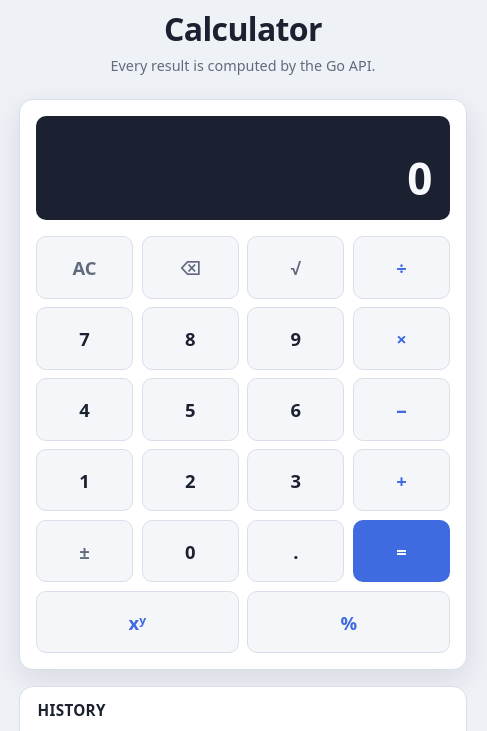
Test: error handling › lets the error be dismissed
The image size is (487, 731).
Step 1. Click the button "1" → (84, 480), box x1=36 y1=449 x2=133 y2=512
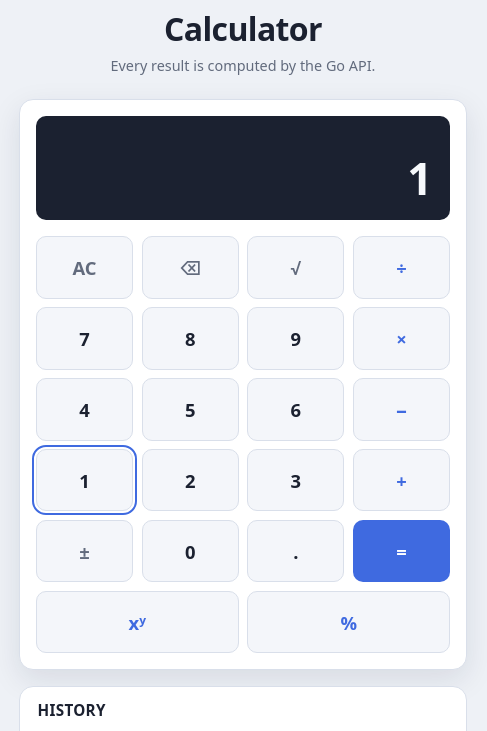
Step 2. Click the button named "Divide" → (402, 267), box x1=353 y1=236 x2=450 y2=298
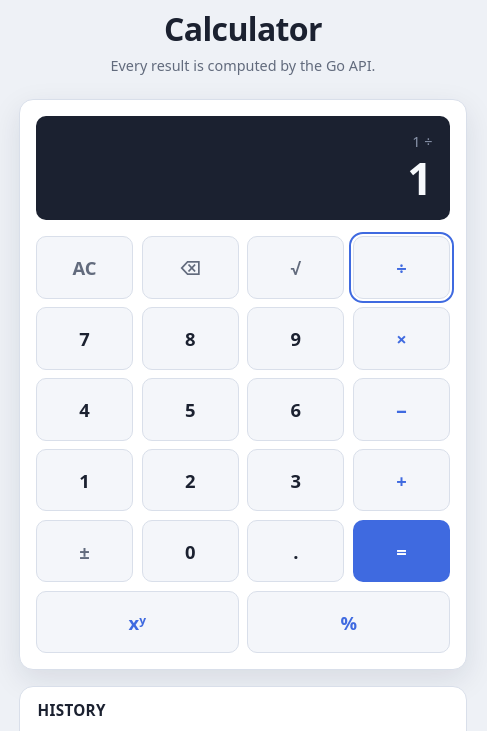
Step 3. Click the button "0" → (190, 551), box x1=142 y1=520 x2=239 y2=582
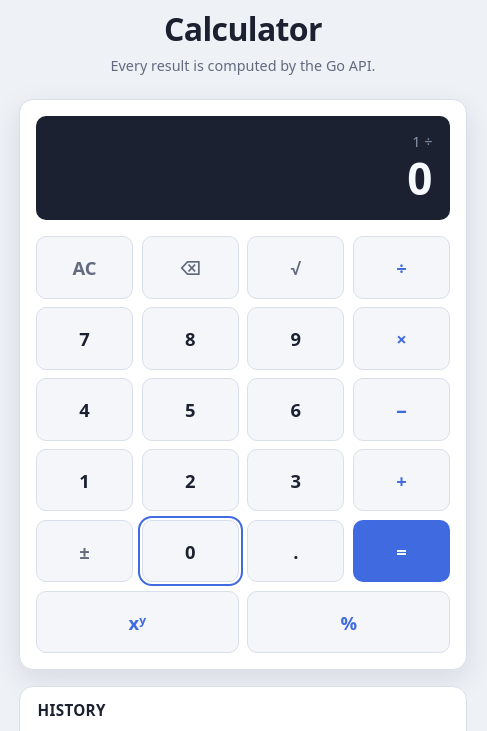
Step 4. Click the button named "Equals" → (402, 551), box x1=353 y1=520 x2=450 y2=582
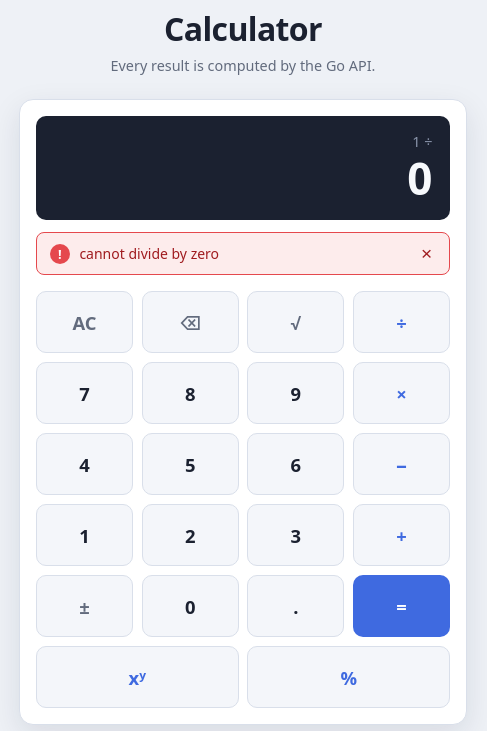
Expected: the message "! cannot divide by zero ×" is shown, x1=36 y1=232 x2=450 y2=275
Step 5. Click the button named "Dismiss error" → (427, 254), box x1=417 y1=244 x2=436 y2=263
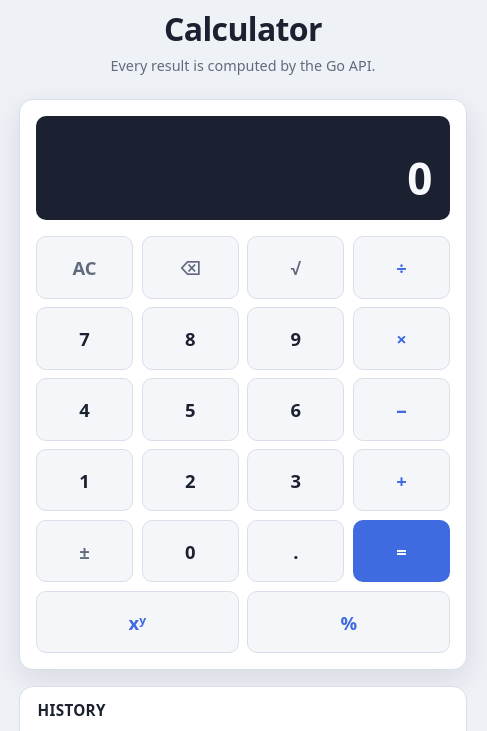
Expected: the message "! cannot divide by zero ×" is gone
